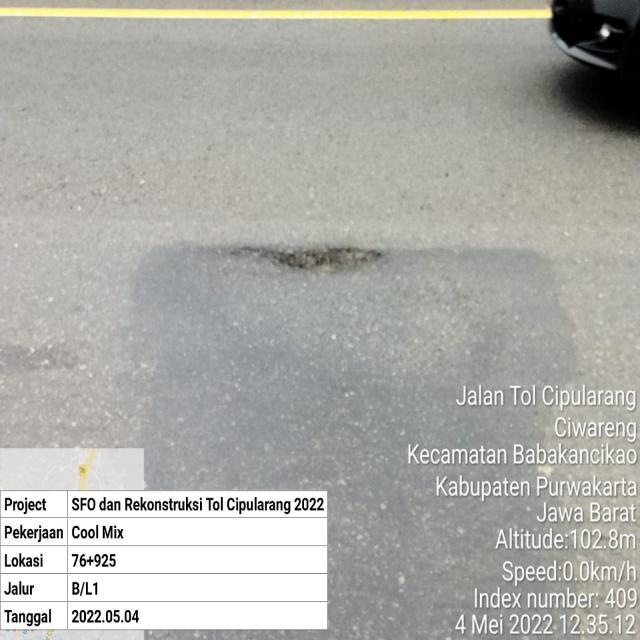Buraco: (225, 242, 388, 280)
